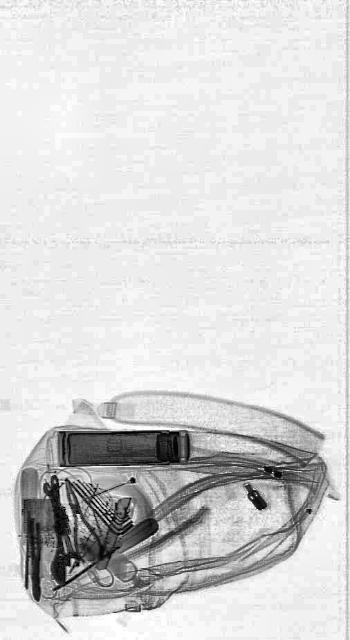Pliers: (54, 468, 104, 574), (28, 516, 42, 602)
Wrench: (44, 482, 80, 572), (45, 472, 73, 584)
